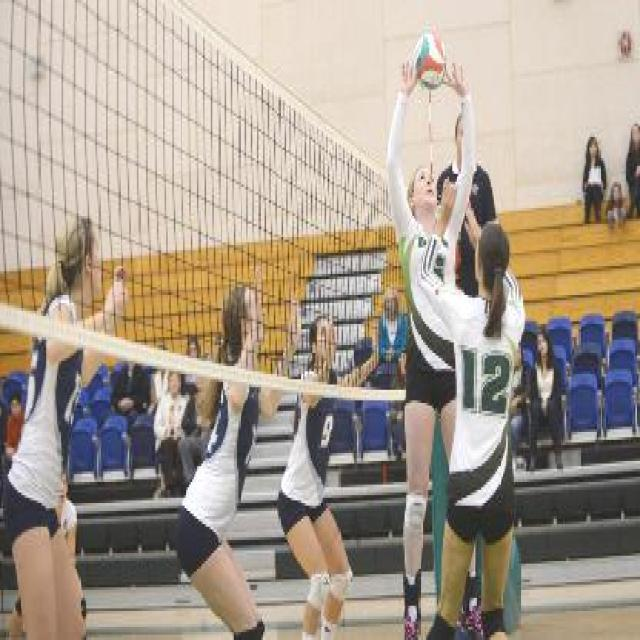volleyball: (411, 30, 448, 89)
